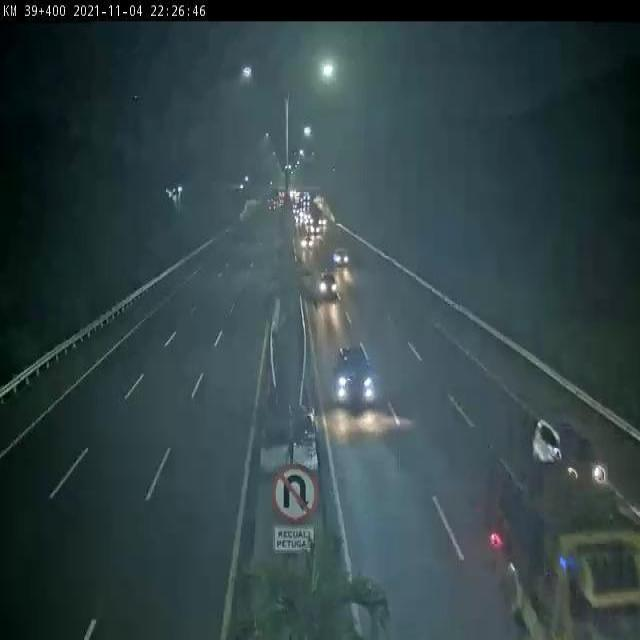ARABA: (534, 393, 616, 500), (324, 327, 396, 424), (312, 263, 346, 301), (328, 245, 361, 275), (299, 229, 315, 251)
KAMYONET: (484, 445, 640, 640)
